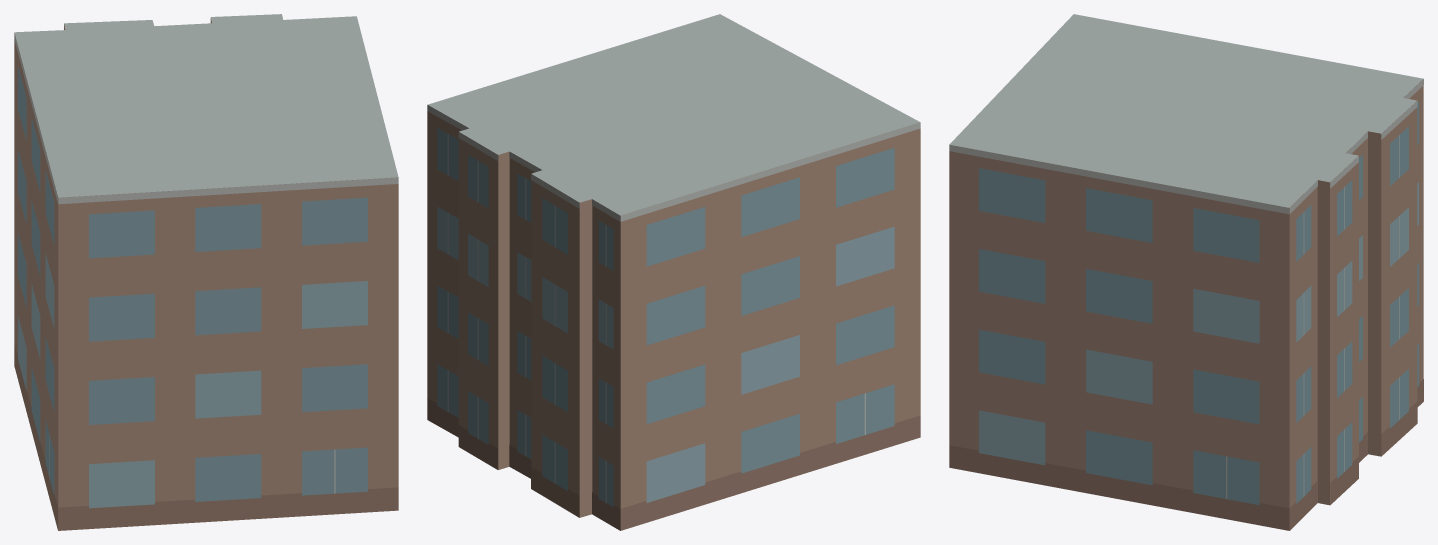
File: survey-upis-32811149.glb
3 views of the same model, side by side, from view 1: azimuth 30°, elevation 25°; view 2: azimuth 150°, elevation 25°; view 3: azimuth 270°, elevation 25° (orthographic). The views are drawn at different scales.
Visible parts, largest first — view 1: survey-upis-32811149.tmp; view 2: survey-upis-32811149.tmp; view 3: survey-upis-32811149.tmp.
Boxes of the visible parts, left/top/right/bottom form: survey-upis-32811149.tmp: left=14, top=14, right=398, bottom=530; survey-upis-32811149.tmp: left=427, top=14, right=920, bottom=530; survey-upis-32811149.tmp: left=949, top=14, right=1423, bottom=530.
Bounding box in the file's own units: 15.85 × 12.3 × 16.39.
